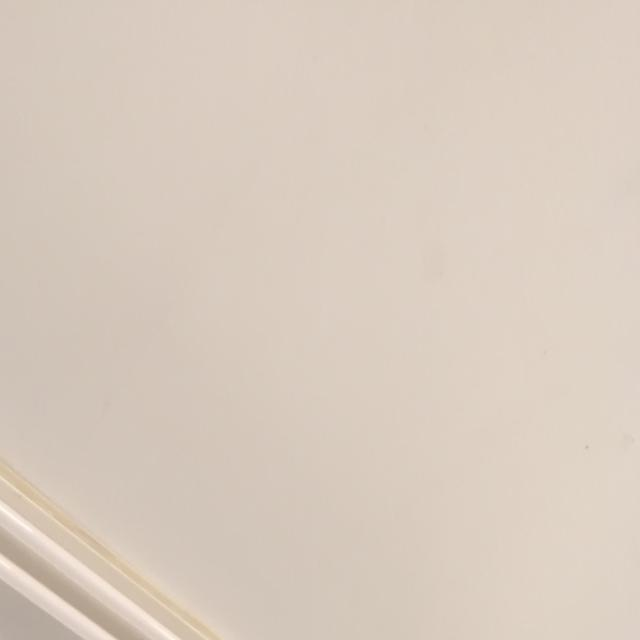fluorescent tube: (0, 127, 421, 640)
